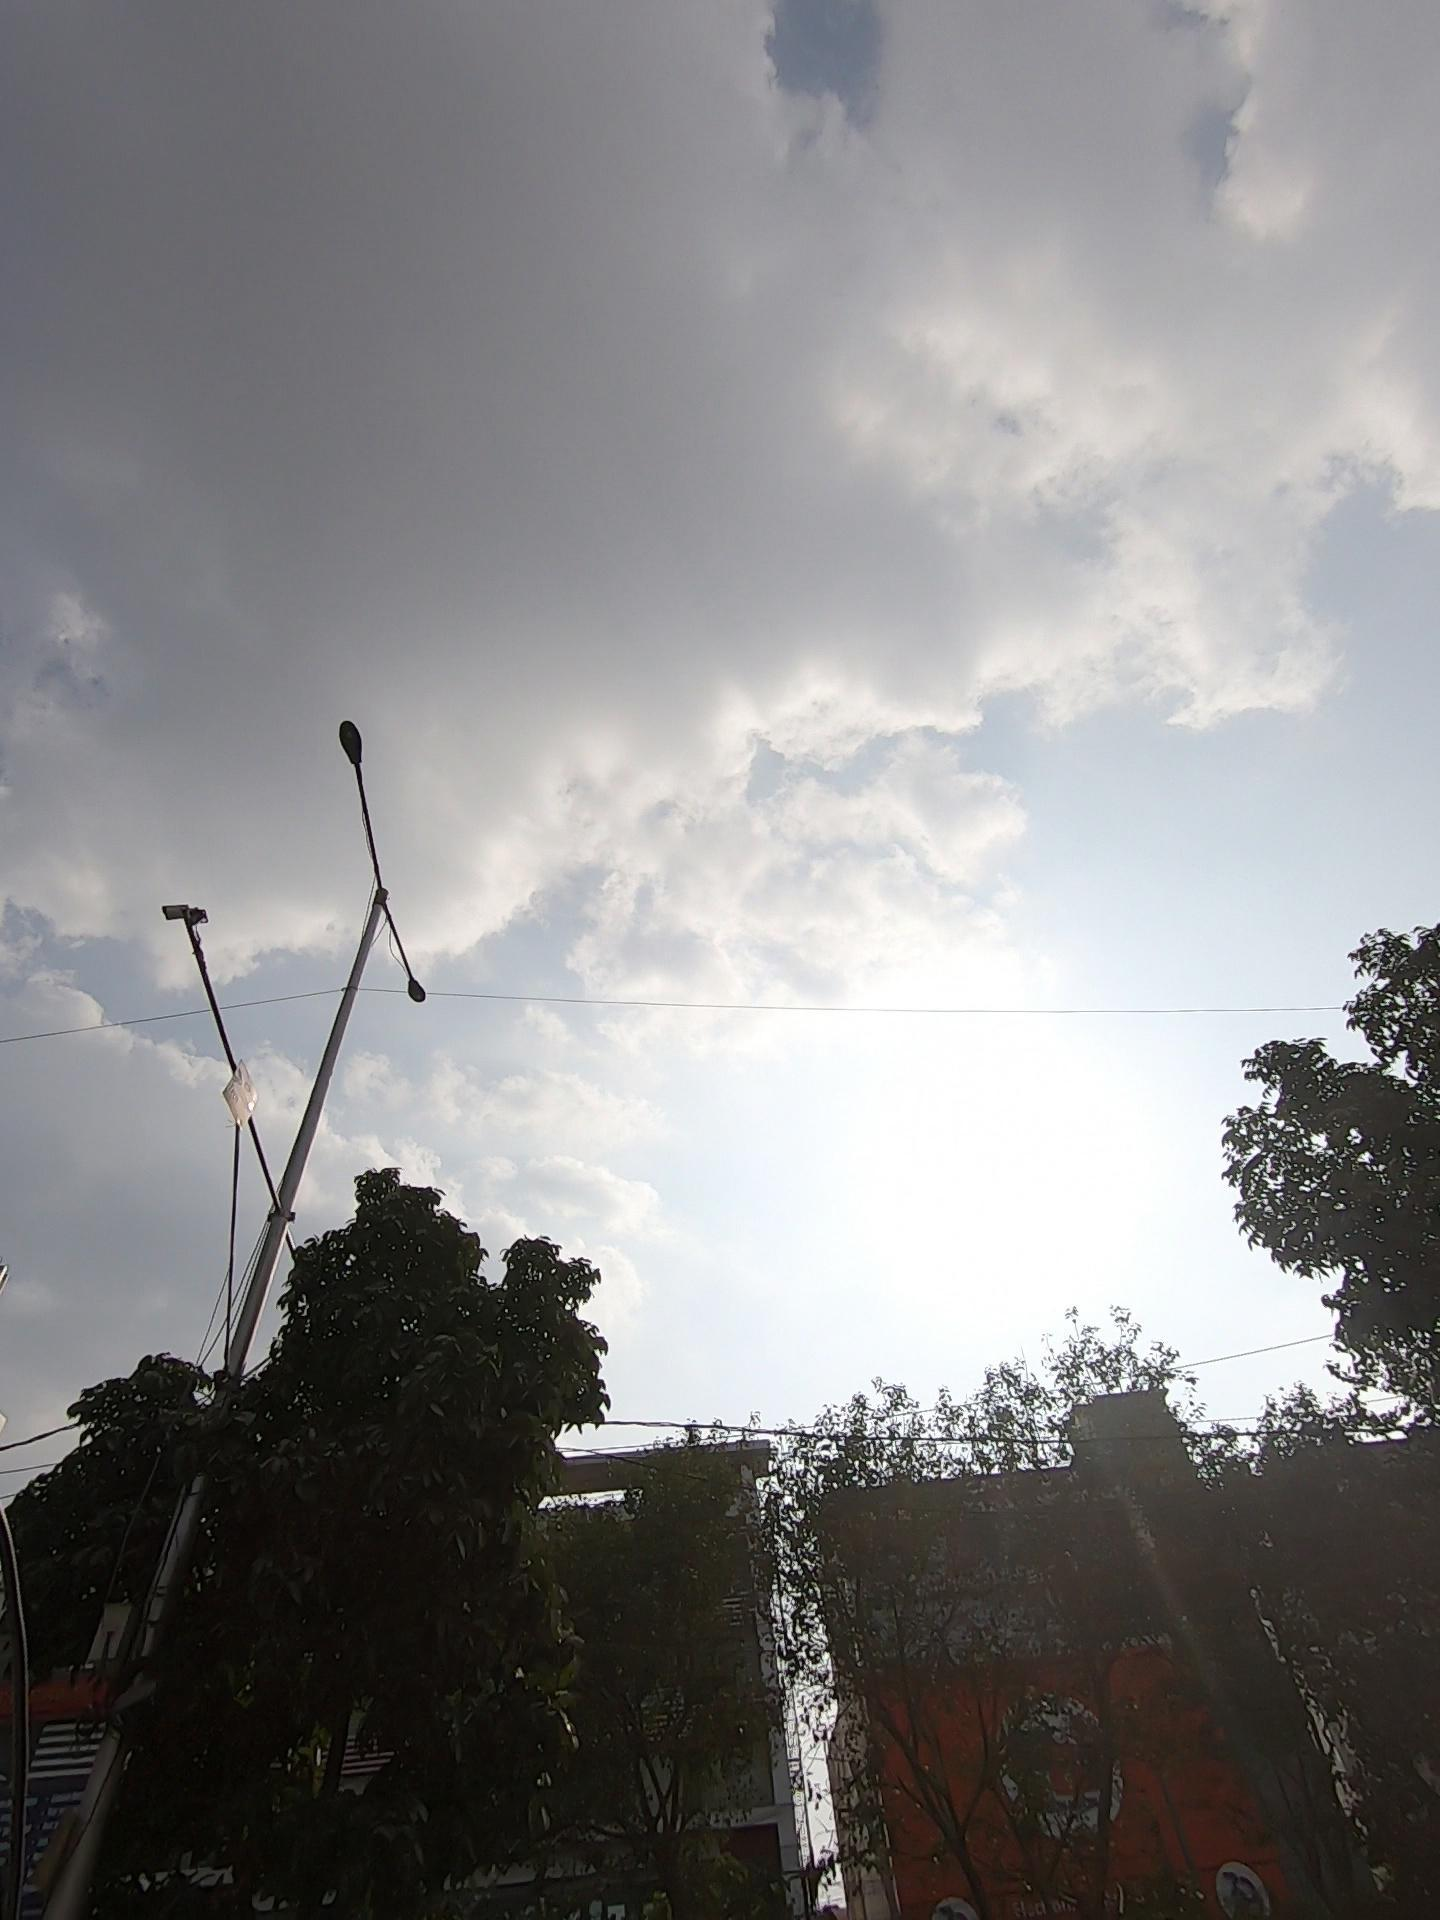off: (260, 646, 516, 1108)
